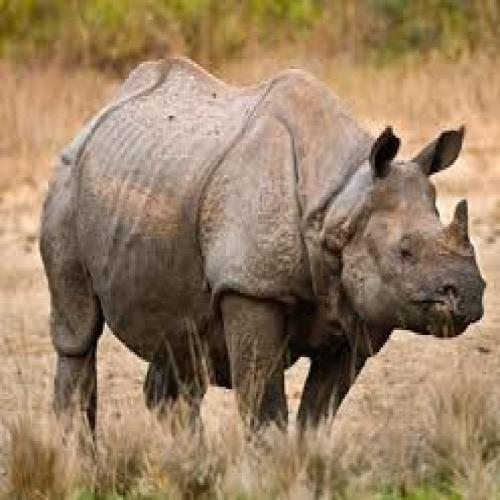rhino-endangered: (44, 51, 484, 447)
